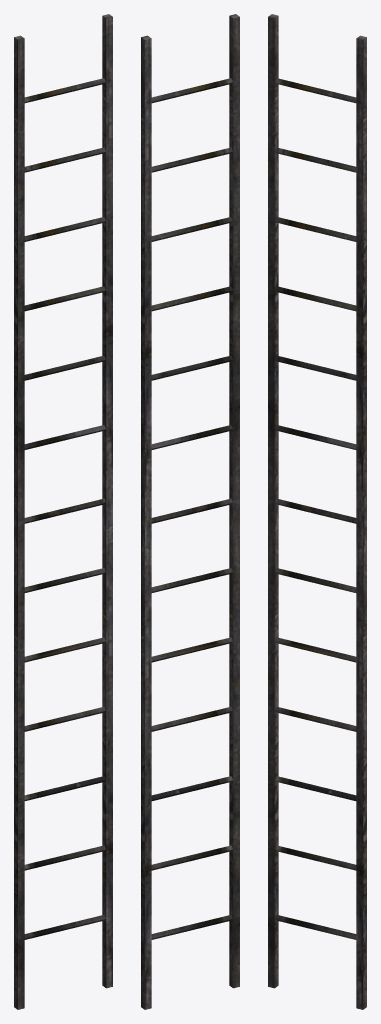
The model's file is Training_Ladder1.fbx.
The picture shows the model from 3 angles, left to right: view 1: azimuth 30°, elevation 25°; view 2: azimuth 210°, elevation 25°; view 3: azimuth 330°, elevation 25°; orthographic projection.
Visible parts, largest first — view 1: Box233; view 2: Box233; view 3: Box233.
Boxes of the visible parts, box(x1,y1,x2,y2) form: Box233: box(14, 14, 112, 1009); Box233: box(141, 14, 239, 1009); Box233: box(268, 14, 366, 1009).
Bounding box in the file's own units: 43.09 × 420 × 3.
